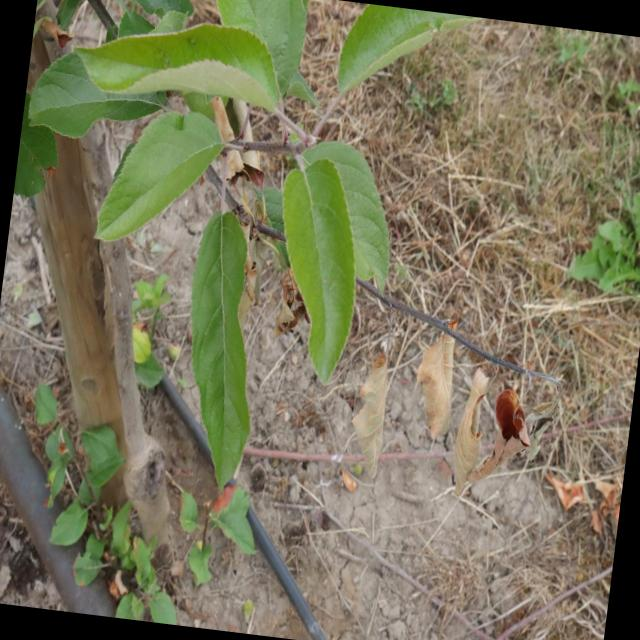-FireBlight-: (360, 317, 547, 490)
